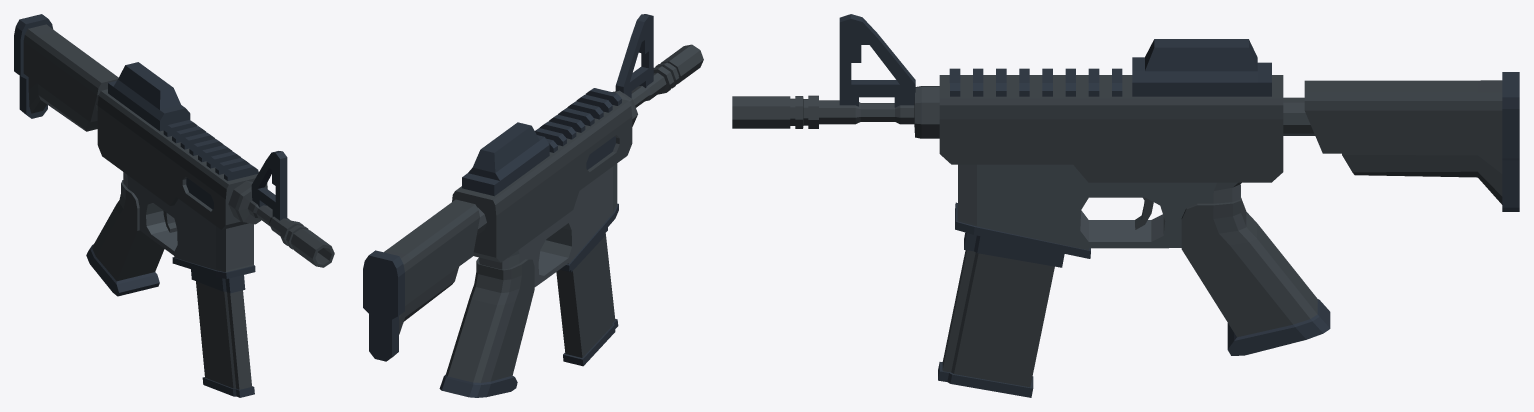
Rendered from rifle_ar_4.glb.
3 renders of one model, left to right at view 1: azimuth 30°, elevation 25°; view 2: azimuth 150°, elevation 25°; view 3: azimuth 270°, elevation 25°, orthographic. The views are drawn at different scales.
Visible parts, largest first — view 1: rifle_ar_4; view 2: rifle_ar_4; view 3: rifle_ar_4.
Part boxes in pixels (x1=…): rifle_ar_4: x1=14, y1=14, x2=334, y2=397; rifle_ar_4: x1=363, y1=14, x2=703, y2=397; rifle_ar_4: x1=732, y1=14, x2=1519, y2=397.
Size of the model in its own units: 0.0436 by 0.2767 by 0.5264.
